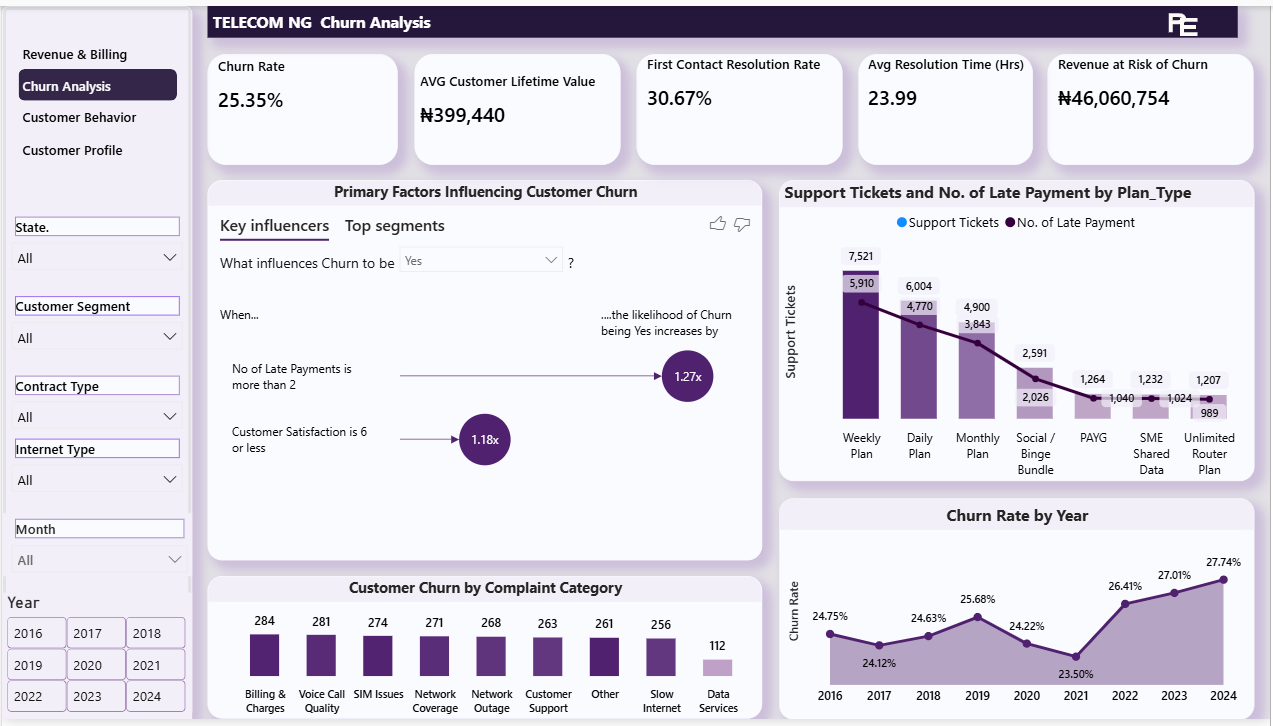

What the dashboard file says about the page in this screenshot:
{"tool":"powerbi","page":{"name":"Churn Analysis","canvas":[1280,720],"ordinal":1},"visuals":[{"type":"cardVisual","fields":{"Data":["Measures..Churn Rate"]},"box":[208,48,192,112],"z":0},{"type":"shape","box":[0,0,192,720],"z":1000},{"type":"actionButton","box":[16,32,176,32],"z":2000},{"type":"actionButton","box":[16,64,160,32],"z":3000},{"type":"actionButton","box":[16,96,176,32],"z":4000},{"type":"textbox","box":[208,0,1040,32],"z":5000},{"type":"image","box":[1152,0,64,32],"z":6000},{"type":"slicer","fields":{"Values":["TelecomChurn_Nigeria_Clean.State."]},"box":[0,208,192,64],"z":7000},{"type":"slicer","fields":{"Values":["TelecomChurn_Nigeria_Clean.Customer_Segment"]},"box":[0,288,192,64],"z":8000},{"type":"slicer","fields":{"Values":["TelecomChurn_Nigeria_Clean.Contract_Type"]},"box":[0,368,192,64],"z":9000},{"type":"slicer","fields":{"Values":["TelecomChurn_Nigeria_Clean.Internet_Type"]},"box":[0,432,192,64],"z":10000},{"type":"keyDriversVisual","title":"Primary Factors Influencing Customer Churn","fields":{"Target":["TelecomChurn_Nigeria_Clean.Churn"],"ExplainBy":["TelecomChurn_Nigeria_Clean.Late_Payment_Count","TelecomChurn_Nigeria_Clean.Support_Tickets","TelecomChurn_Nigeria_Clean.Customer_Satisfaction","TelecomChurn_Nigeria_Clean.Payment_Method","TelecomChurn_Nigeria_Clean.Age"]},"box":[208,176,560,384],"z":11000},{"type":"cardVisual","fields":{"Data":["Measures..Revenue at Risk"]},"box":[1056,48,208,112],"z":12000},{"type":"clusteredColumnChart","title":"Customer Churn by Complaint Category","fields":{"Category":["TelecomChurn_Nigeria_Clean.Complaint_Category"],"Y":["Measures..Churned Customers"]},"box":[208,576,560,144],"z":13000},{"type":"cardVisual","fields":{"Data":["Measures..First Contact Resolution Rate"]},"box":[640,48,208,112],"z":14000},{"type":"cardVisual","fields":{"Data":["Measures..Avg Resolution Time"]},"box":[864,48,176,112],"z":15000},{"type":"cardVisual","fields":{"Data":["Measures..Average Customer Lifetime Value"]},"box":[416,48,208,112],"z":16000},{"type":"slicer","fields":{"Values":["Date Table.Month"]},"box":[0,512,192,64],"z":17000},{"type":"advancedSlicerVisual","fields":{"Values":["Date Table.Year"]},"box":[0,592,192,128],"z":18000},{"type":"lineStackedColumnComboChart","fields":{"Category":["TelecomChurn_Nigeria_Clean.Plan_Type"],"Y":["Sum(TelecomChurn_Nigeria_Clean.Support_Tickets)"],"Y2":["Sum(TelecomChurn_Nigeria_Clean.Late_Payment_Count)"]},"box":[784,176,480,304],"z":19000},{"type":"actionButton","box":[16,128,176,32],"z":20000},{"type":"lineChart","fields":{"Y":["Measures..Churn Rate"],"Category":["Date Table.Year"]},"box":[784,496,480,224],"z":21000}]}

Visuals, with their boxes on the page's 1280x720 design canvas (x1, y1, x2, y2). These are canvas units, not pixel positions in the 1273x726 screenshot, which may show the page scaled, cropped or inside an application window:
cardVisual - Measures..Churn Rate: <bbox>208, 48, 400, 160</bbox>
shape: <bbox>0, 0, 192, 720</bbox>
actionButton: <bbox>16, 32, 192, 64</bbox>
actionButton: <bbox>16, 64, 176, 96</bbox>
actionButton: <bbox>16, 96, 192, 128</bbox>
textbox: <bbox>208, 0, 1248, 32</bbox>
image: <bbox>1152, 0, 1216, 32</bbox>
slicer - TelecomChurn_Nigeria_Clean.State.: <bbox>0, 208, 192, 272</bbox>
slicer - TelecomChurn_Nigeria_Clean.Customer_Segment: <bbox>0, 288, 192, 352</bbox>
slicer - TelecomChurn_Nigeria_Clean.Contract_Type: <bbox>0, 368, 192, 432</bbox>
slicer - TelecomChurn_Nigeria_Clean.Internet_Type: <bbox>0, 432, 192, 496</bbox>
"Primary Factors Influencing Customer Churn" keyDriversVisual: <bbox>208, 176, 768, 560</bbox>
cardVisual - Measures..Revenue at Risk: <bbox>1056, 48, 1264, 160</bbox>
"Customer Churn by Complaint Category" clusteredColumnChart: <bbox>208, 576, 768, 720</bbox>
cardVisual - Measures..First Contact Resolution Rate: <bbox>640, 48, 848, 160</bbox>
cardVisual - Measures..Avg Resolution Time: <bbox>864, 48, 1040, 160</bbox>
cardVisual - Measures..Average Customer Lifetime Value: <bbox>416, 48, 624, 160</bbox>
slicer - Date Table.Month: <bbox>0, 512, 192, 576</bbox>
advancedSlicerVisual - Date Table.Year: <bbox>0, 592, 192, 720</bbox>
lineStackedColumnComboChart - TelecomChurn_Nigeria_Clean.Plan_Type x Sum(TelecomChurn_Nigeria_Clean.Support_Tickets): <bbox>784, 176, 1264, 480</bbox>
actionButton: <bbox>16, 128, 192, 160</bbox>
lineChart - Measures..Churn Rate x Date Table.Year: <bbox>784, 496, 1264, 720</bbox>
